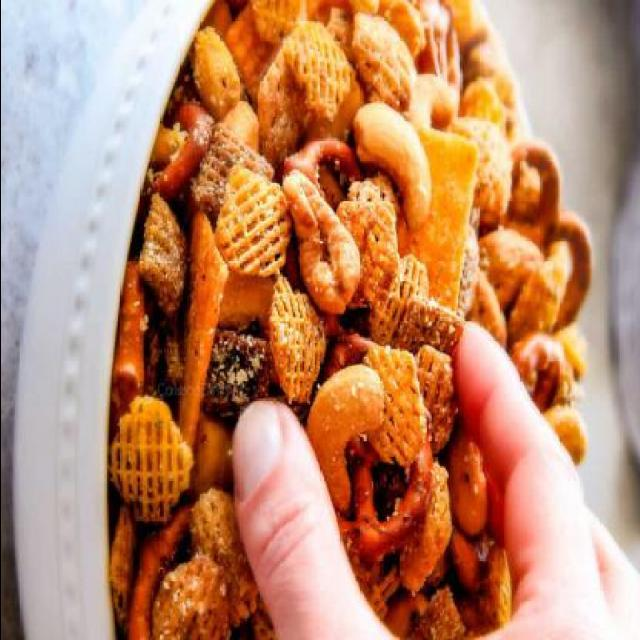Salatini packaged: (101, 3, 564, 626)
